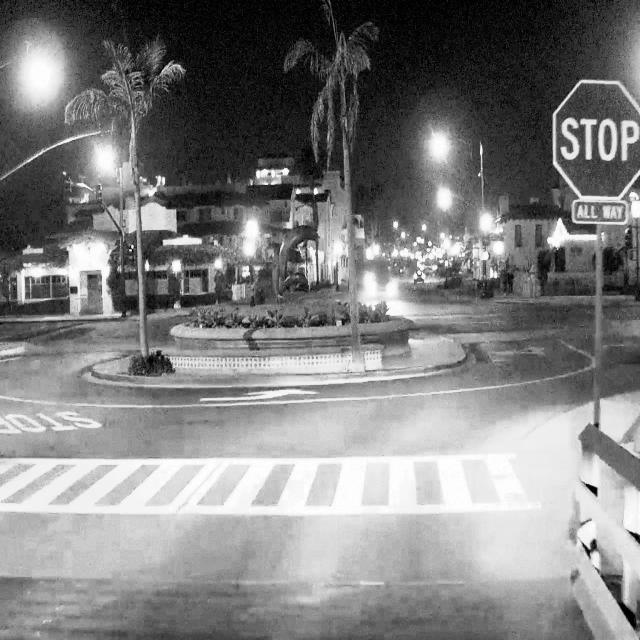Light: (440, 182, 450, 220)
Sign: (553, 80, 640, 200), (572, 199, 628, 225)
